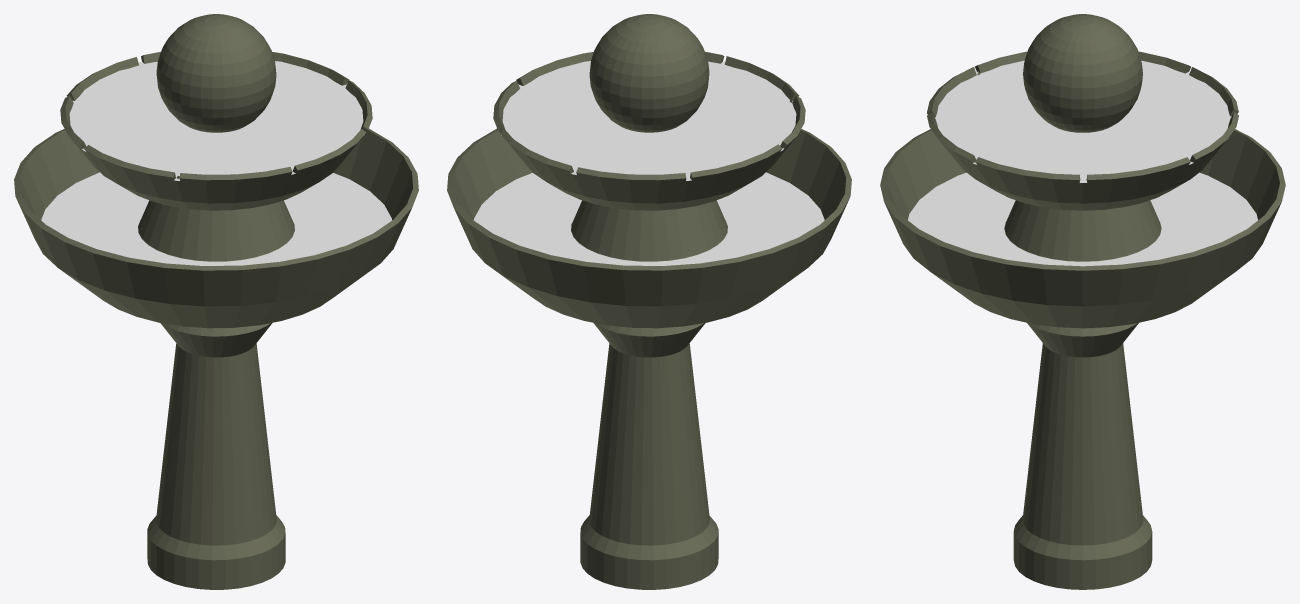
Rendered from fountain.glb.
3 renders of one model, left to right at view 1: azimuth 30°, elevation 25°; view 2: azimuth 150°, elevation 25°; view 3: azimuth 270°, elevation 25°, orthographic.
Parts seen in each view (by area): view 1: fountain; view 2: fountain; view 3: fountain.
Part boxes in pixels (x1,y1,x2,y2): fountain: [14, 14, 418, 589]; fountain: [447, 14, 851, 589]; fountain: [880, 14, 1285, 589].
Bounding box in the file's own units: 5.86 × 8.63 × 5.86.
